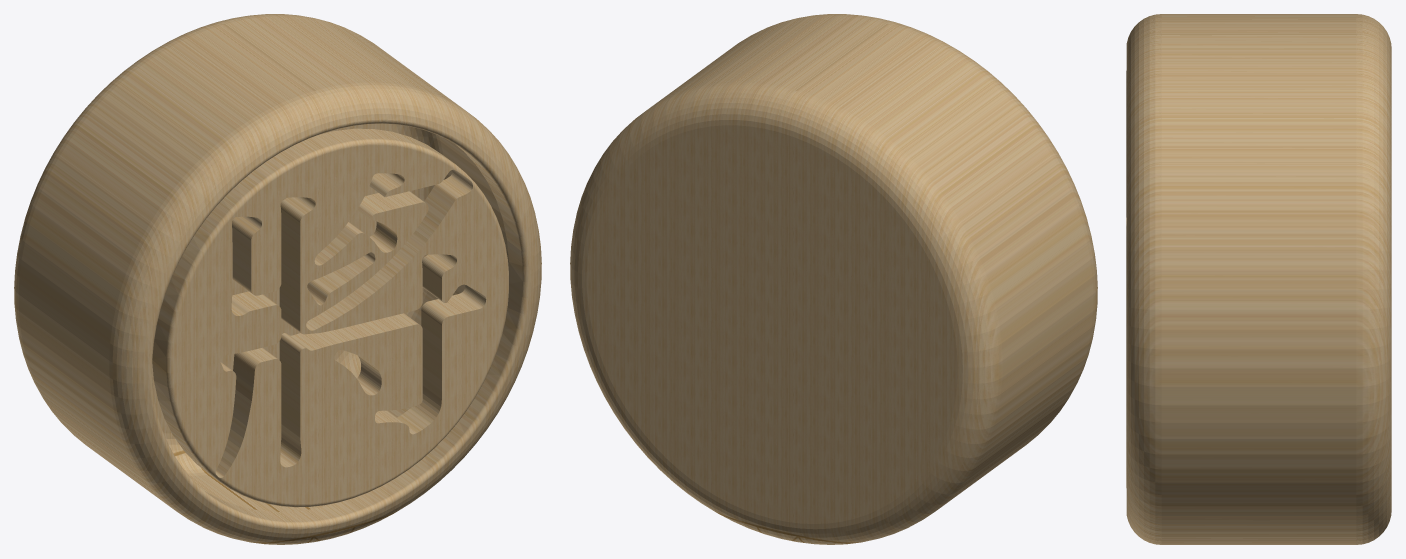
The model's file is h01_chess_black_general_wood.obj.
3 renders of one model, left to right at view 1: azimuth 30°, elevation 25°; view 2: azimuth 150°, elevation 25°; view 3: azimuth 270°, elevation 25°, orthographic. The views are drawn at different scales.
Size of the model in its own units: 0.03 by 0.03 by 0.015.
1 material, 1 textured.
